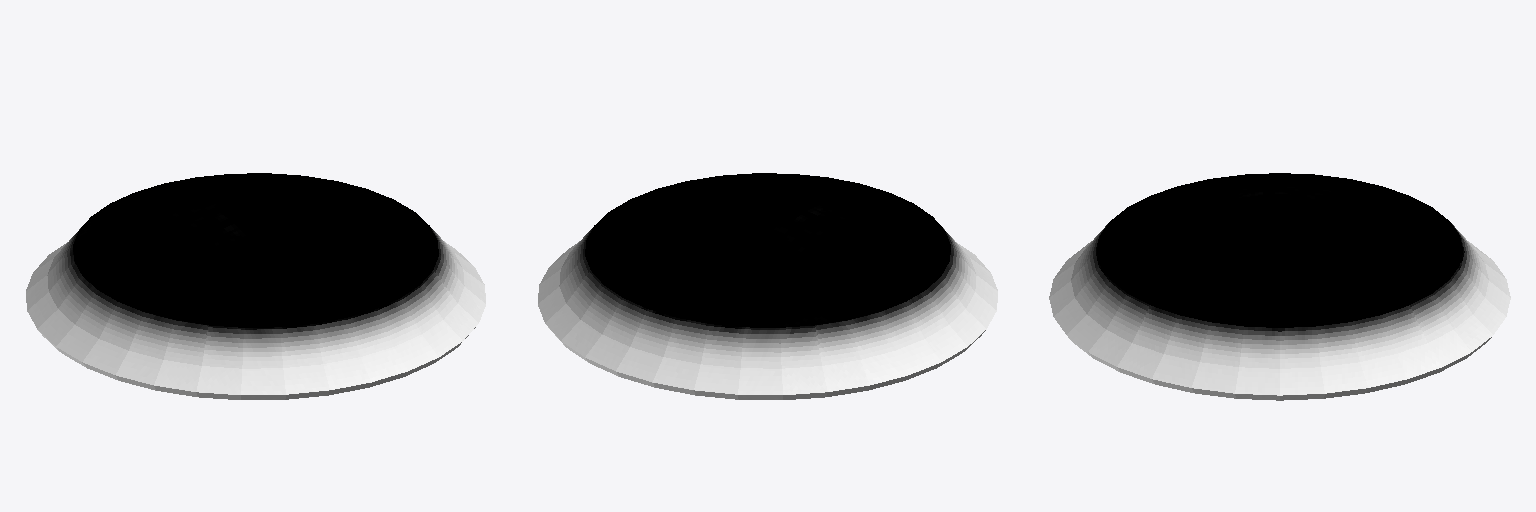
The picture shows the model from 3 angles: view 1: azimuth 30°, elevation 25°; view 2: azimuth 150°, elevation 25°; view 3: azimuth 270°, elevation 25°; orthographic projection.
Parts seen in each view (by area): view 1: BakedCornea; view 2: BakedCornea; view 3: BakedCornea.
Boxes of the visible parts, x1,y1,x2,y2 form: BakedCornea: [26, 173, 485, 399]; BakedCornea: [538, 173, 997, 399]; BakedCornea: [1049, 173, 1510, 400].
Size of the model in its own units: 1.14 by 0.2693 by 1.14.
Materials: 1 (1 with a texture image).